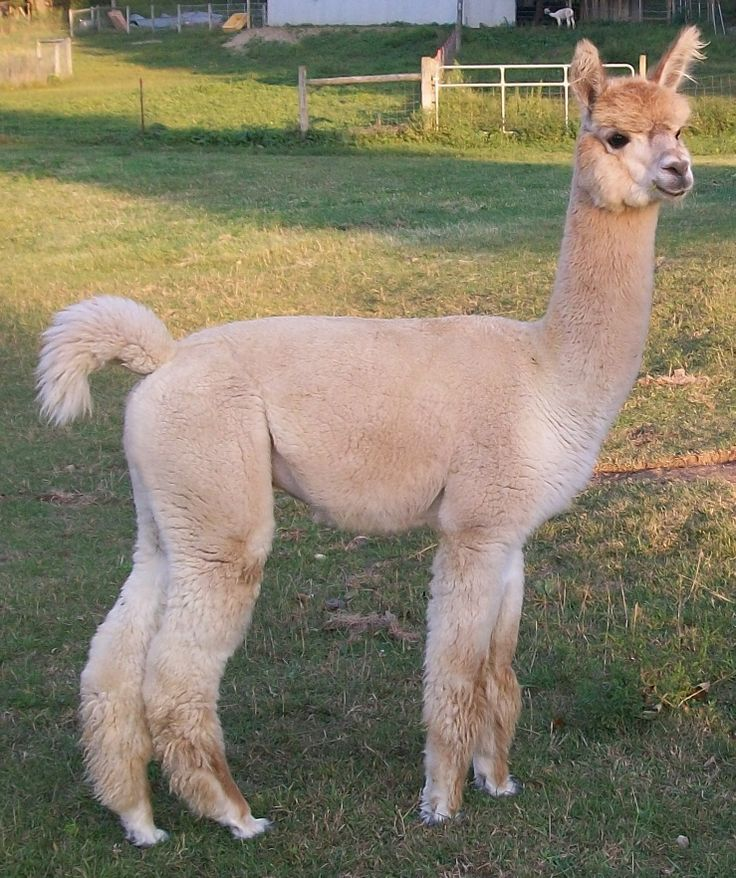alpaca: (34, 25, 712, 849)
